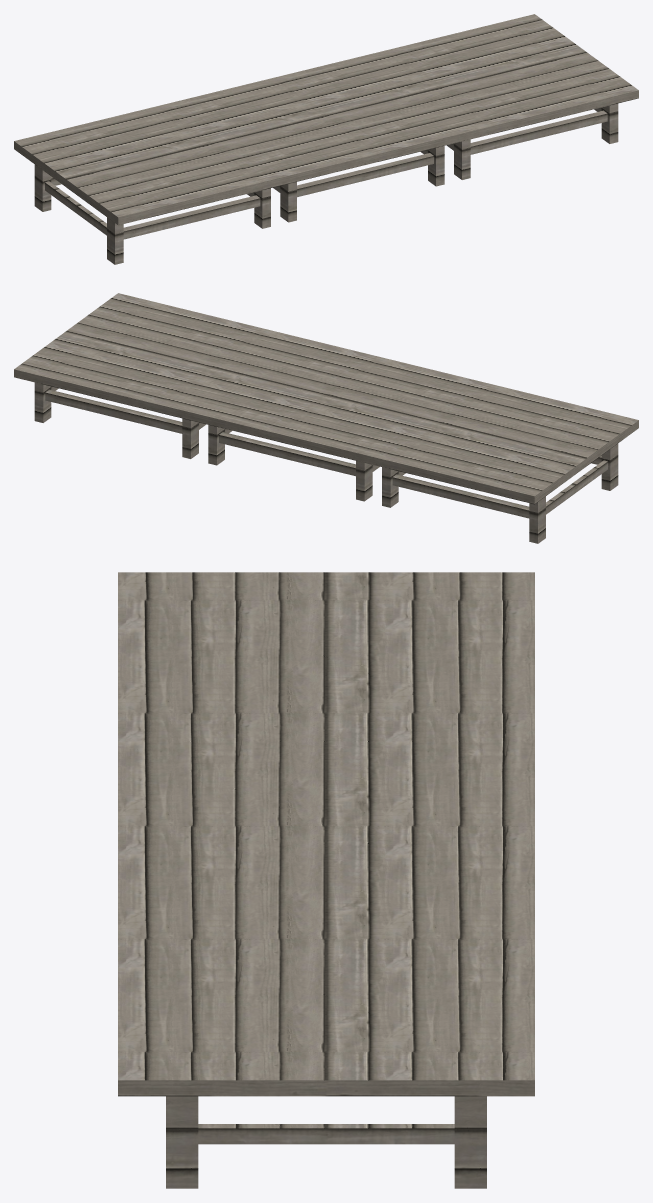
Rendered from table.fbx.
3 views of the same model, one above another, from view 1: azimuth 30°, elevation 25°; view 2: azimuth 150°, elevation 25°; view 3: azimuth 270°, elevation 25° (orthographic). The views are drawn at different scales.
Visible parts, largest first — view 1: mergedBlocks; view 2: mergedBlocks; view 3: mergedBlocks.
Boxes of the visible parts, x1=… form: mergedBlocks: x1=14, y1=14, x2=638, y2=264; mergedBlocks: x1=14, y1=293, x2=638, y2=543; mergedBlocks: x1=118, y1=572, x2=534, y2=1188.
Size of the model in its own units: 45 by 4.82 by 15.6.
Materials: 2 (2 with a texture image).
